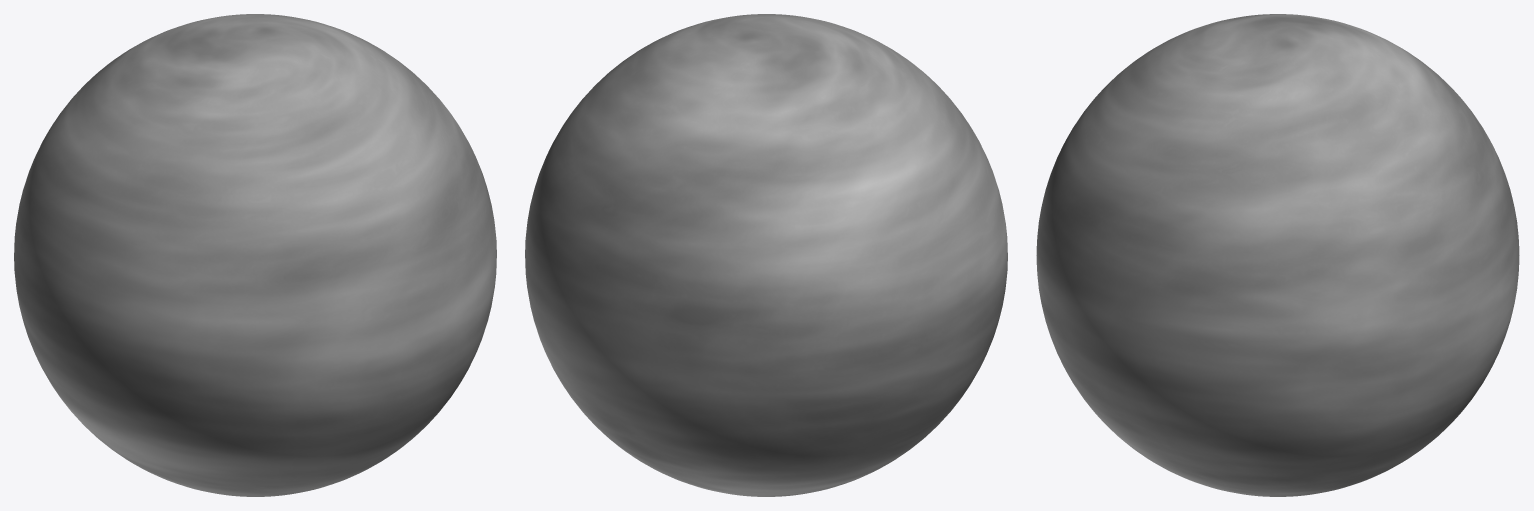
3 renders of one model, left to right at view 1: azimuth 30°, elevation 25°; view 2: azimuth 150°, elevation 25°; view 3: azimuth 270°, elevation 25°, orthographic.
Parts seen in each view (by area): view 1: Nubes; view 2: Nubes; view 3: Nubes.
Part boxes in pixels (x1,y1,x2,y2): Nubes: (14,14,496,496); Nubes: (525,14,1007,496); Nubes: (1036,14,1519,496).
Bounding box in the file's own units: 2036 × 2036 × 2036.
2 materials, 2 textured.
